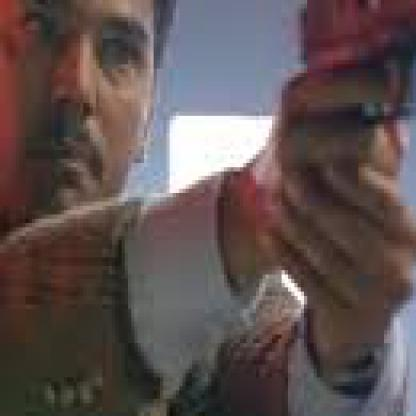gun: (0, 47, 413, 412)
